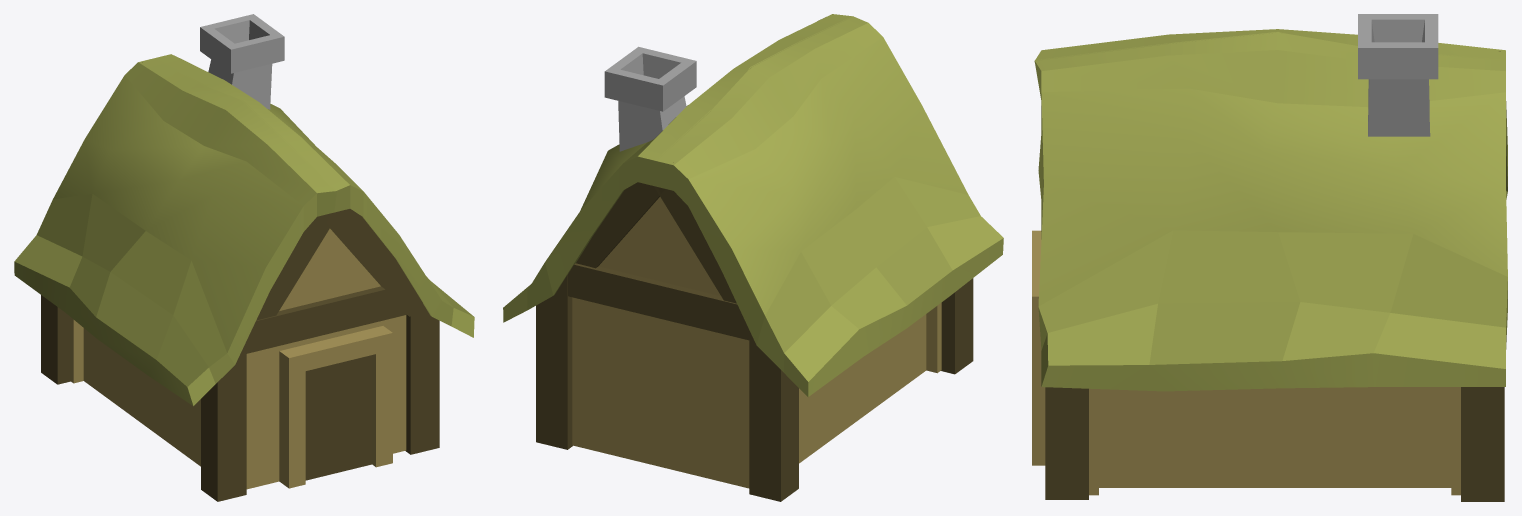
Rendered from House.fbx.
The picture shows the model from 3 angles, left to right: view 1: azimuth 30°, elevation 25°; view 2: azimuth 150°, elevation 25°; view 3: azimuth 270°, elevation 25°; orthographic projection. The views are drawn at different scales.
Visible parts, largest first — view 1: pCube21, pCube17; view 2: pCube21; view 3: pCube21.
Part boxes in pixels (x1,y1,x2,y2): pCube21: (14, 14, 474, 501); pCube17: (305, 355, 371, 480); pCube21: (503, 14, 1003, 501); pCube21: (1032, 14, 1507, 501).
Bounding box in the file's own units: 7.15 × 7.83 × 7.85.
